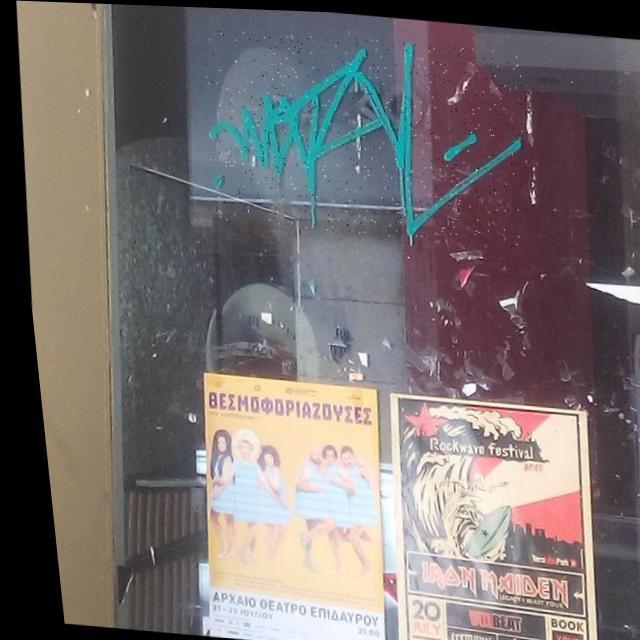-: (193, 23, 536, 245)
